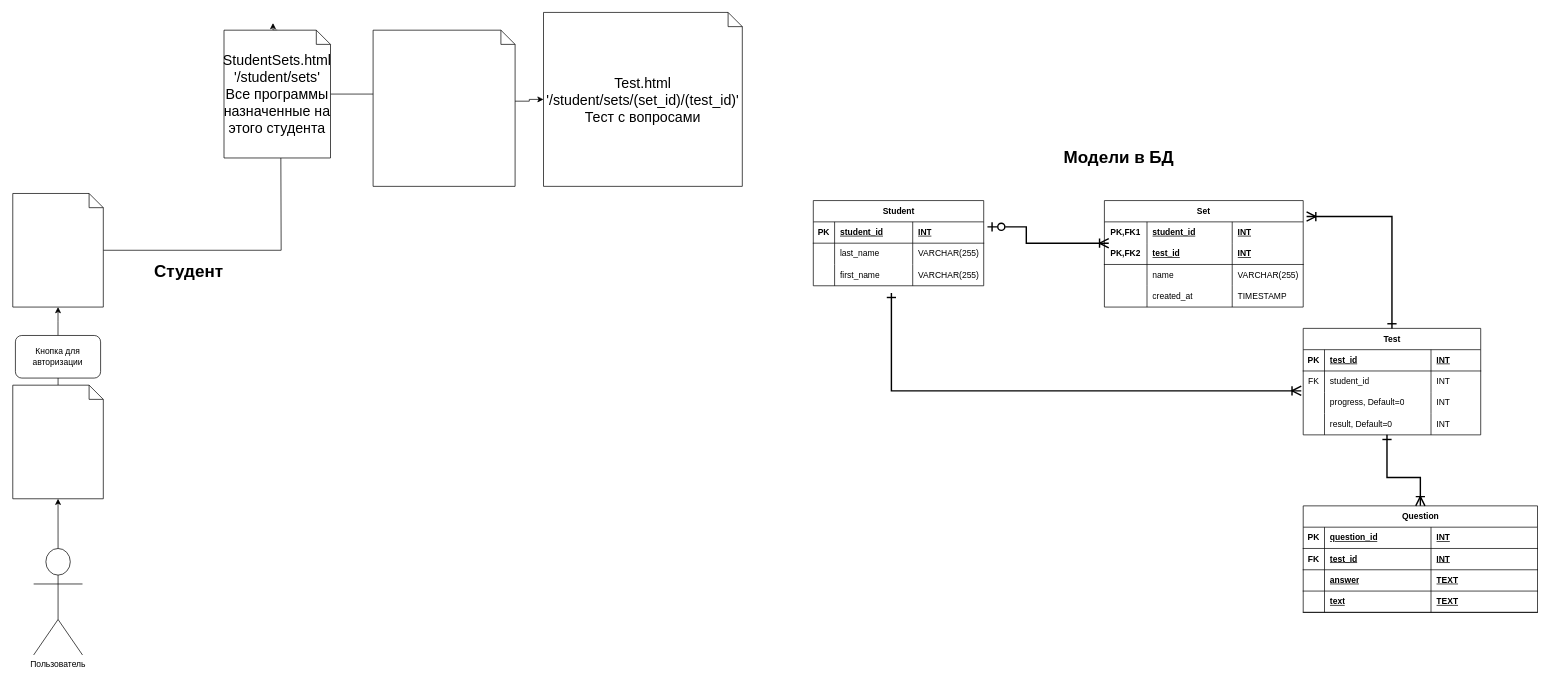
This 1550x682 diagram has some shape labels left out. Here are the shapes that lost their labels. From the top down, the centre of each, then its label:
pixel 443 107: Set.html '/student/sets/(set_id)' Программа назначенная на студента и прогресс
pixel 57 250: Login.html '/login' Вход/Регистрация
pixel 57 441: Index.html '/' Здесь описание сайта
